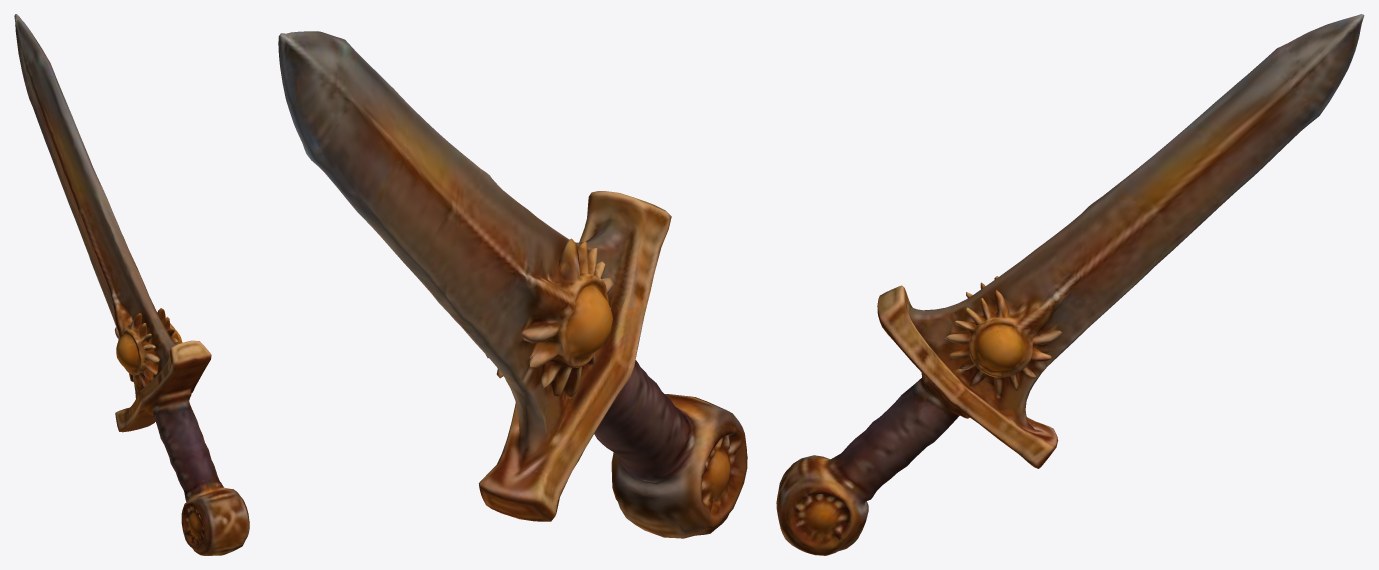
Rendered from weap_brnz.glb.
3 renders of one model, left to right at view 1: azimuth 30°, elevation 25°; view 2: azimuth 150°, elevation 25°; view 3: azimuth 270°, elevation 25°, orthographic. The views are drawn at different scales.
Parts seen in each view (by area): view 1: tripo_node_e2b4f47c-9a88-4ec7-ba9a-ba83c9e617d3; view 2: tripo_node_e2b4f47c-9a88-4ec7-ba9a-ba83c9e617d3; view 3: tripo_node_e2b4f47c-9a88-4ec7-ba9a-ba83c9e617d3.
Boxes of the visible parts, left/top/right/bottom form: tripo_node_e2b4f47c-9a88-4ec7-ba9a-ba83c9e617d3: left=14, top=14, right=249, bottom=555; tripo_node_e2b4f47c-9a88-4ec7-ba9a-ba83c9e617d3: left=278, top=31, right=747, bottom=538; tripo_node_e2b4f47c-9a88-4ec7-ba9a-ba83c9e617d3: left=776, top=14, right=1364, bottom=555.
Size of the model in its own units: 0.0732 by 0.45 by 0.4496.
Materials: 1 (1 with a texture image).
